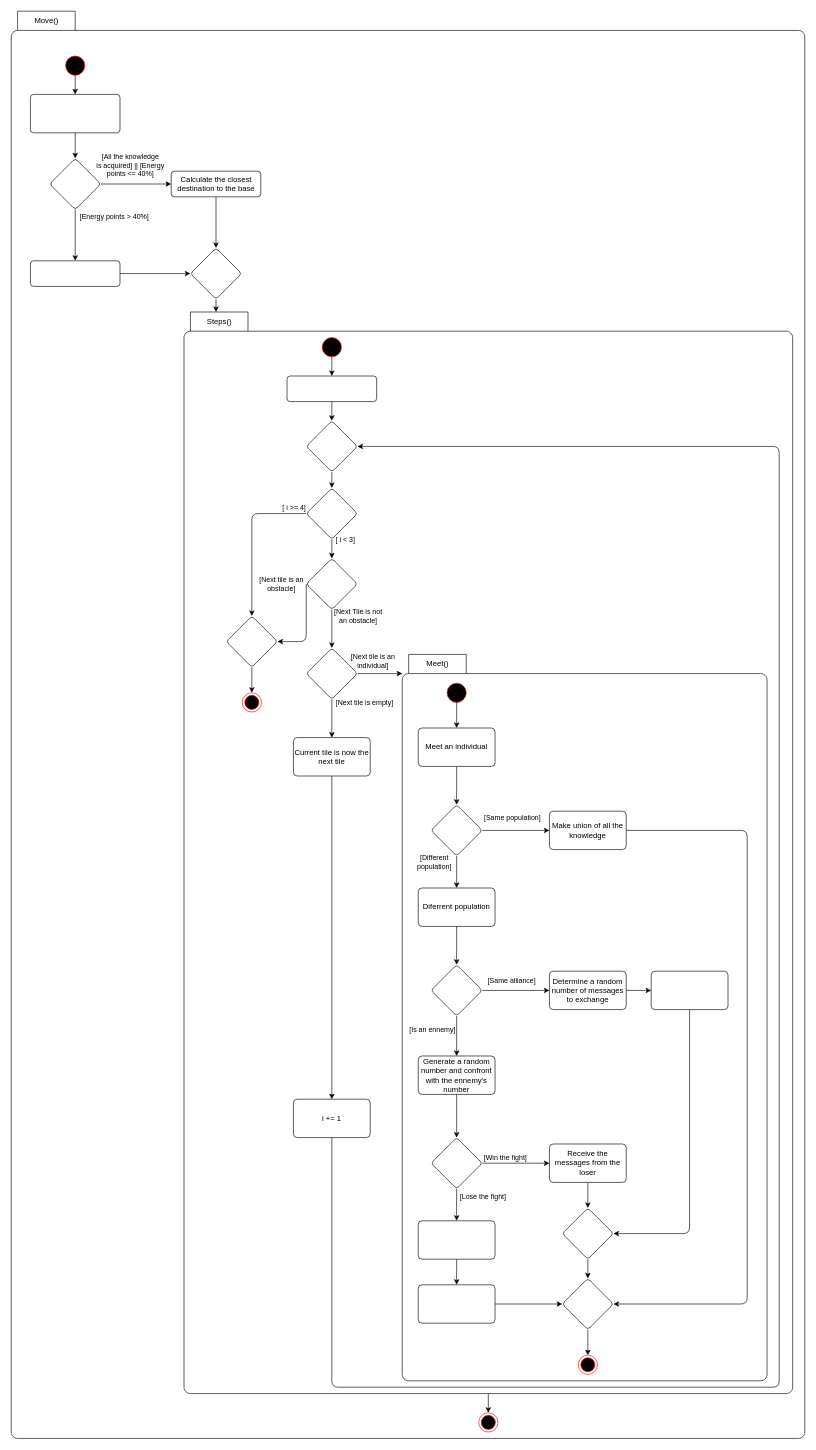
The diagram is 816 pixels wide and 1450 high, and some of its shapes have lost their labels. The shapes that lost their labels are listed below. From the top down, each one's centre as x and y in pixels, then its label:
the point at 75,113: Random number from 0 to 7 to determine destination
the point at 75,273: Chose a random destination
the point at 331,388: i = 0
the point at 689,990: Exchange with the ally
the point at 456,1239: Determine a random number of messages the winner does'nt have
the point at 456,1303: Give the messages and lose them
